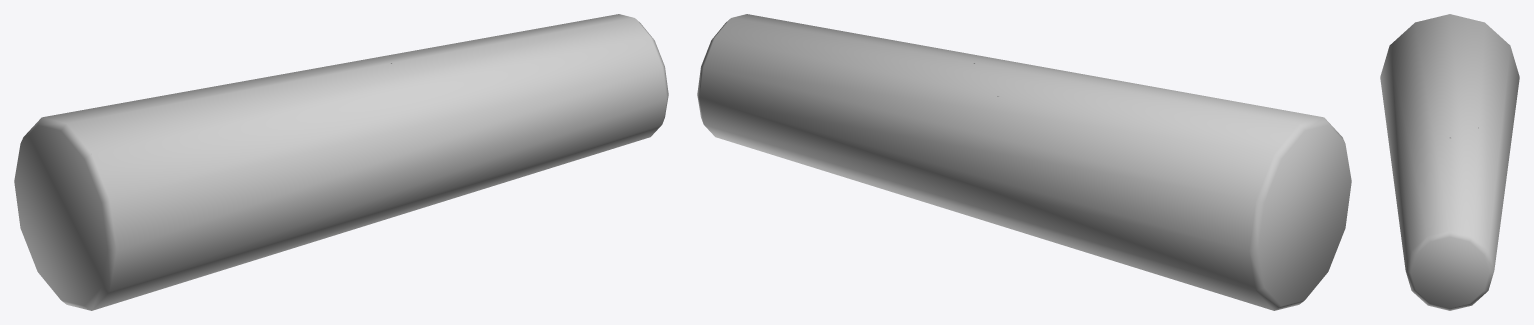
The model's file is Chalk.fbx.
3 renders of one model, left to right at view 1: azimuth 30°, elevation 25°; view 2: azimuth 150°, elevation 25°; view 3: azimuth 270°, elevation 25°, orthographic. The views are drawn at different scales.
Parts seen in each view (by area): view 1: Chalk; view 2: Chalk; view 3: Chalk.
Boxes of the visible parts, bbox=[...] form: Chalk: bbox=[14, 14, 668, 310]; Chalk: bbox=[697, 14, 1351, 310]; Chalk: bbox=[1380, 14, 1519, 310].
Bounding box in the file's own units: 68.64 × 20.52 × 20.52.
